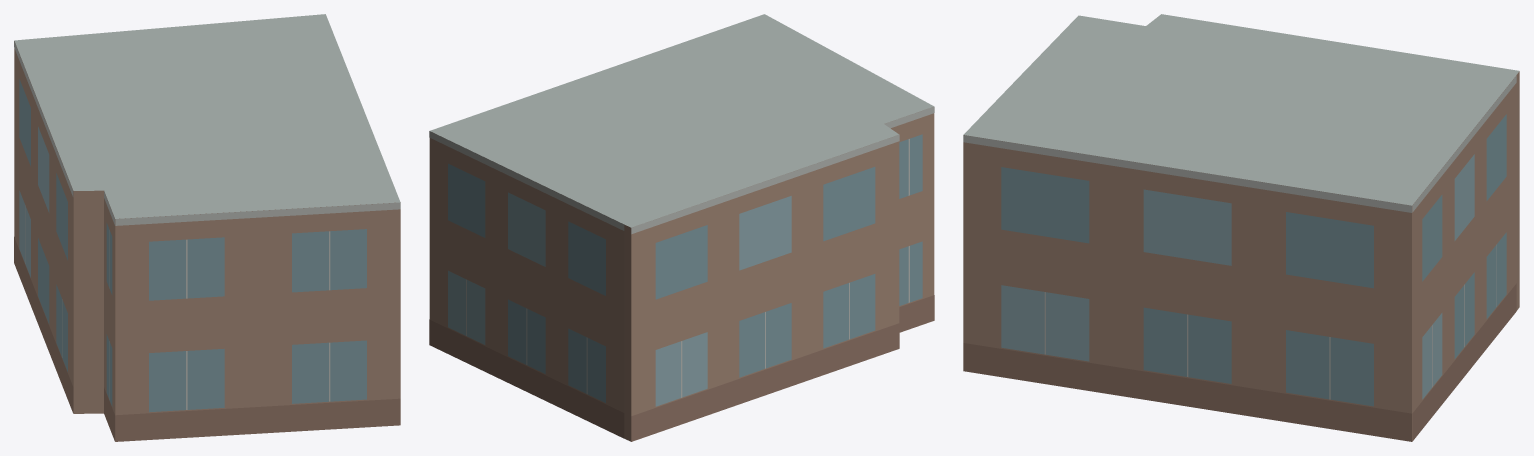
File: survey-upis-32883502.glb
3 renders of one model, left to right at view 1: azimuth 30°, elevation 25°; view 2: azimuth 150°, elevation 25°; view 3: azimuth 270°, elevation 25°, orthographic. The views are drawn at different scales.
Parts seen in each view (by area): view 1: survey-upis-32883502.tmp; view 2: survey-upis-32883502.tmp; view 3: survey-upis-32883502.tmp.
Boxes of the visible parts, left/top/right/bottom form: survey-upis-32883502.tmp: left=14, top=14, right=400, bottom=441; survey-upis-32883502.tmp: left=429, top=14, right=934, bottom=441; survey-upis-32883502.tmp: left=963, top=14, right=1519, bottom=441.
Bounding box in the file's own units: 13.63 × 7.83 × 16.72.
